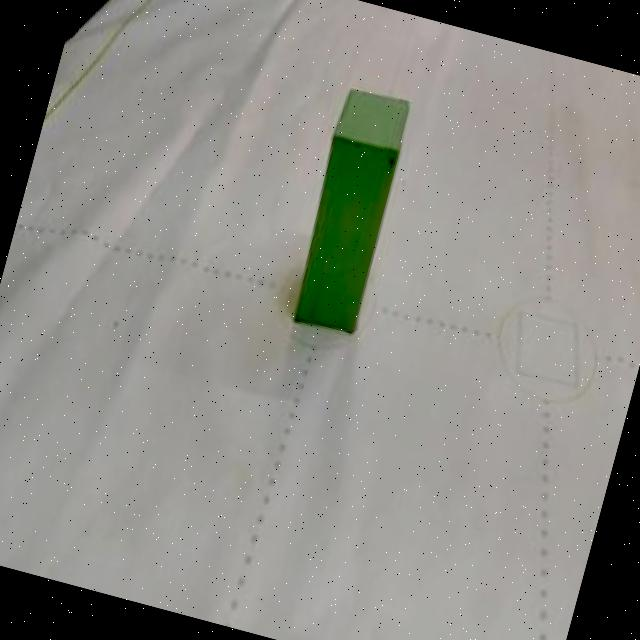greenbox: (278, 78, 421, 342)
